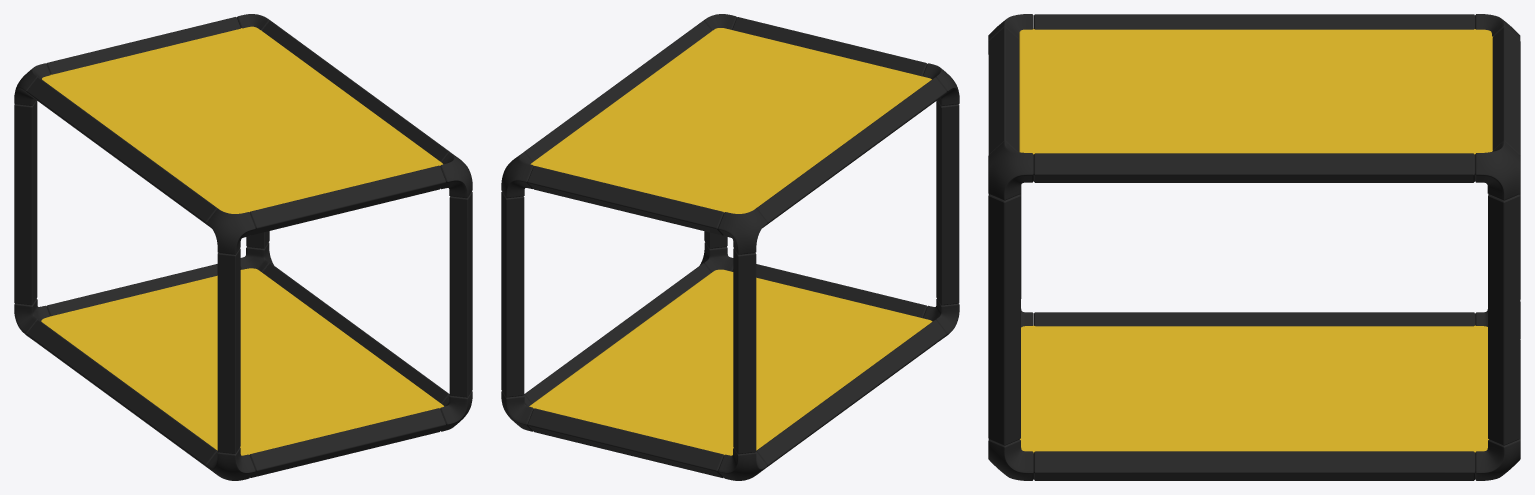
3 views of the same model, side by side, from view 1: azimuth 30°, elevation 25°; view 2: azimuth 150°, elevation 25°; view 3: azimuth 270°, elevation 25° (orthographic). The views are drawn at different scales.
Visible parts, largest first — view 1: 229x374x229; view 2: 229x374x229; view 3: 229x374x229.
Boxes of the visible parts, <box> form: 229x374x229: <box>14,14,472,480</box>; 229x374x229: <box>501,14,959,480</box>; 229x374x229: <box>988,14,1520,480</box>.
Bounding box in the file's own units: 0.3067 × 0.3066 × 0.4513.
